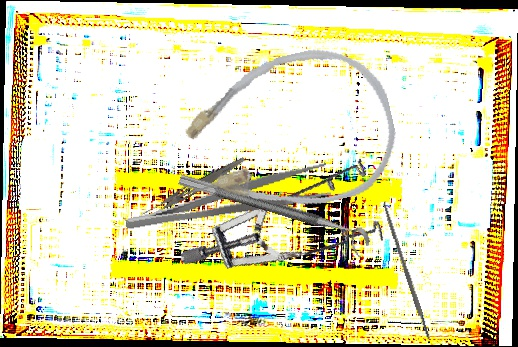Cannula: (161, 35, 408, 233)
Dressing Forceps: (121, 161, 332, 235), (139, 151, 247, 224)
Fixation Ring: (172, 172, 374, 260)
Scalpel Handle: (380, 200, 432, 342)
Speculum: (176, 118, 403, 314)
